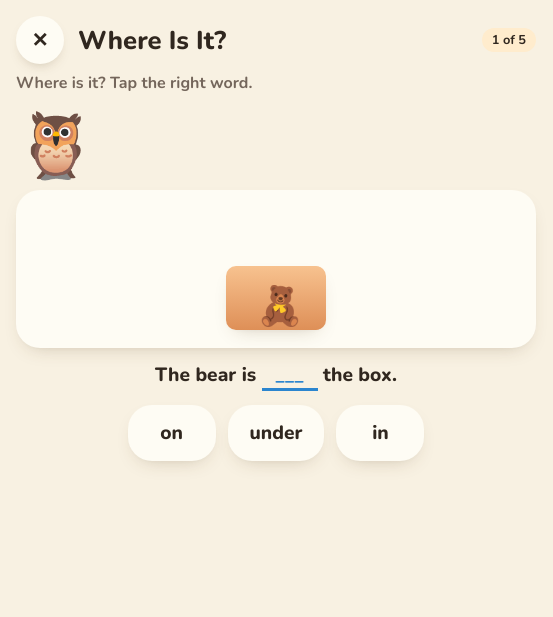
Scenario: PrepositionPage › shows positive feedback (Next) after tapping the correct chip
Click the button "under".
click(276, 433)  # box x1=228 y1=405 x2=324 y2=461
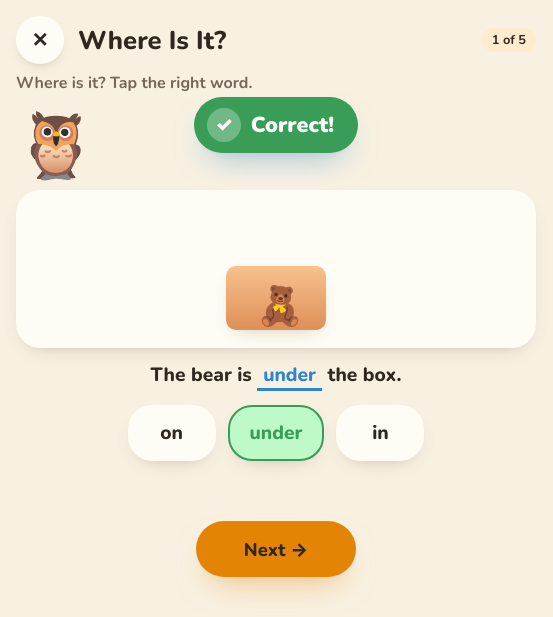
Check: the button "Next →" is shown, box x1=196 y1=521 x2=356 y2=577
